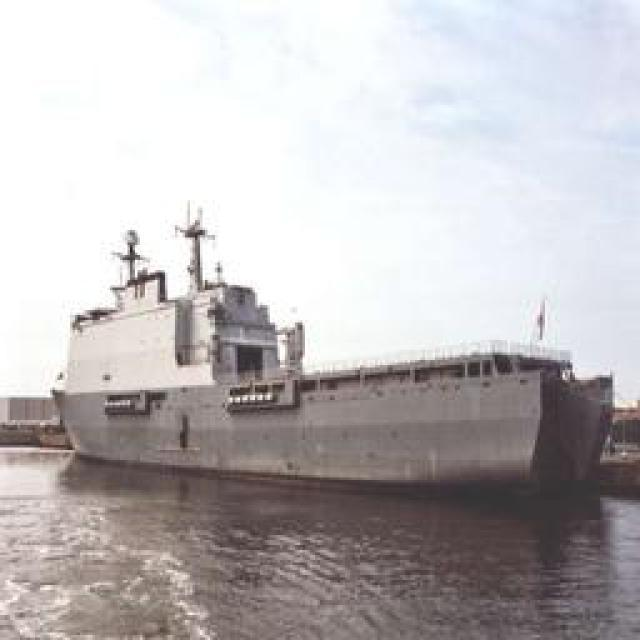Ship: (49, 197, 599, 487)
